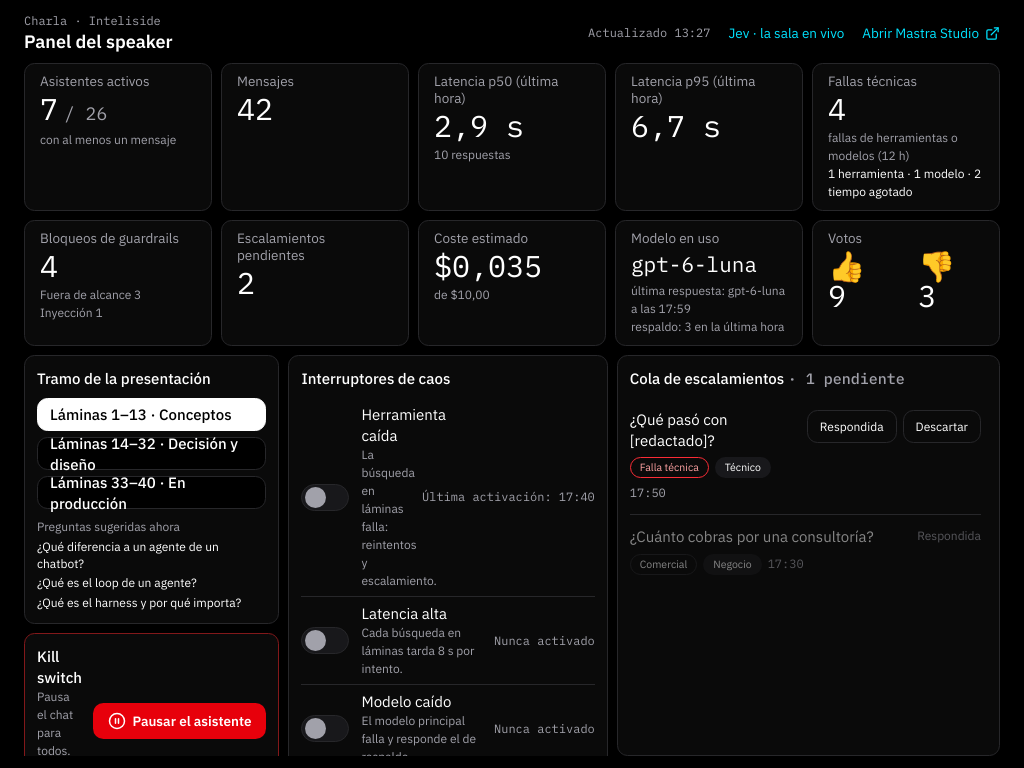
Test: Panel del speaker › modelo en uso › cambia apenas se toca el interruptor, sin esperar una respuesta del agente
Expected: the text "42" is shown, x1=237 y1=94 x2=273 y2=124
Expected: the text with test id "modelo-en-uso" reads "gpt-6-luna", x1=631 y1=250 x2=757 y2=278
Click the switch named "Modelo caído".
click(326, 728)  # box x1=302 y1=715 x2=350 y2=742
(page scrolled)
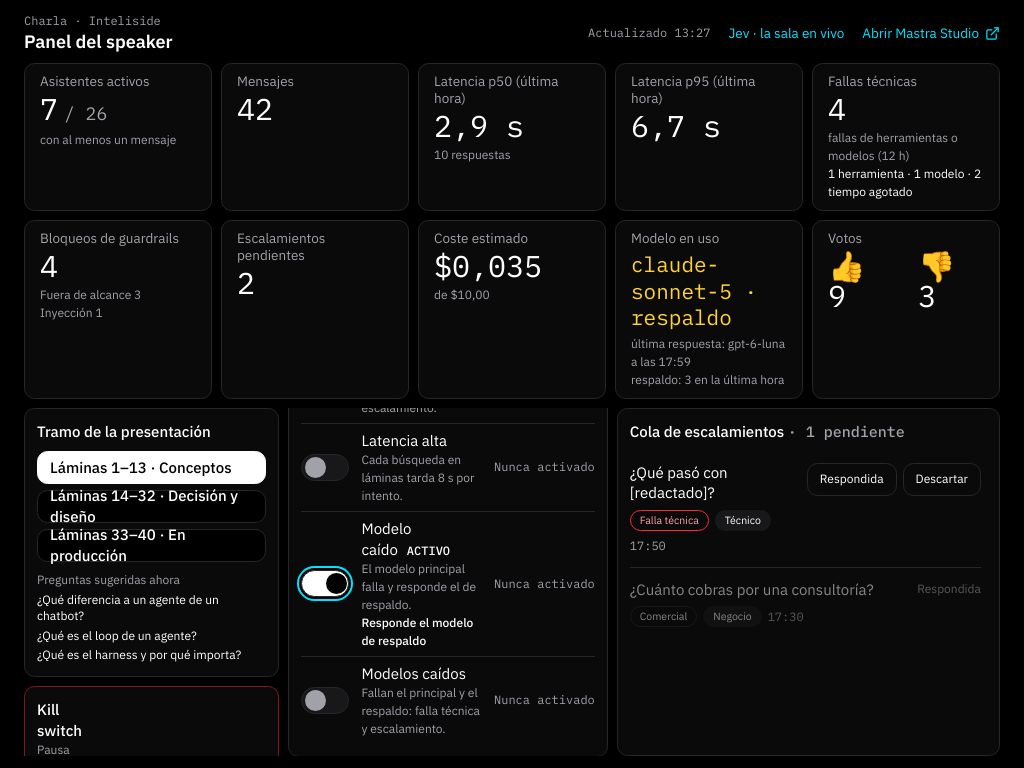
Now the text with test id "modelo-en-uso" reads "claude-sonnet-5 · respaldo", box x1=631 y1=250 x2=757 y2=331
Click the switch named "Modelo caído".
click(326, 584)  # box x1=302 y1=570 x2=350 y2=597
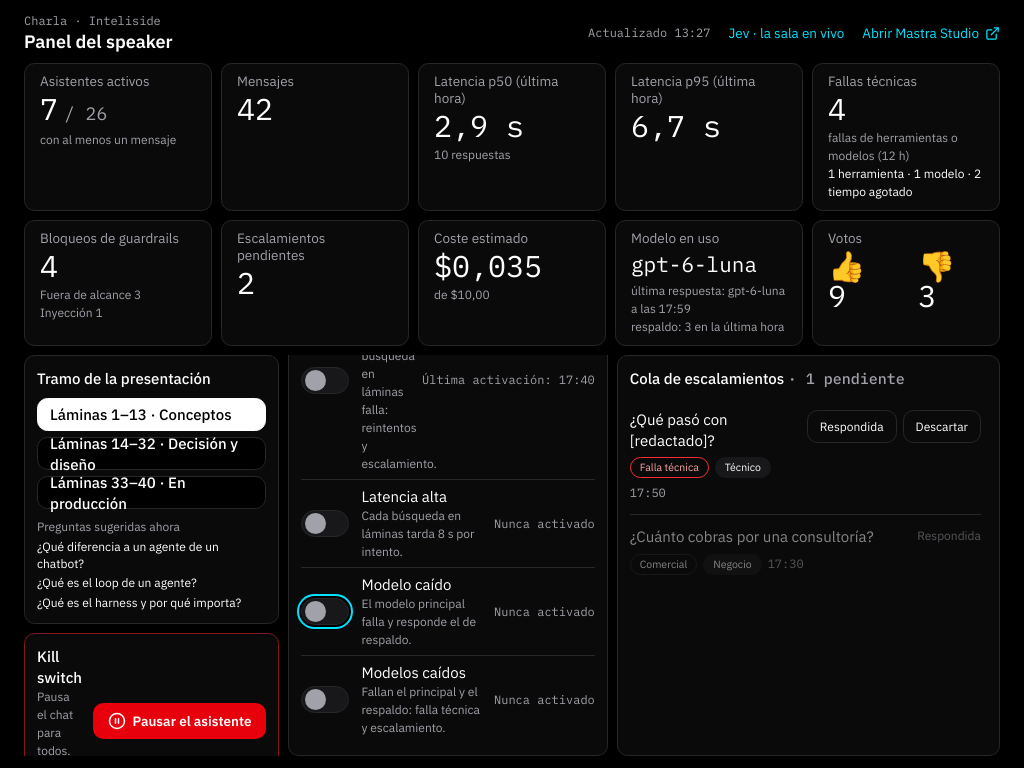
Now the text with test id "modelo-en-uso" reads "gpt-6-luna", box x1=631 y1=250 x2=757 y2=278
